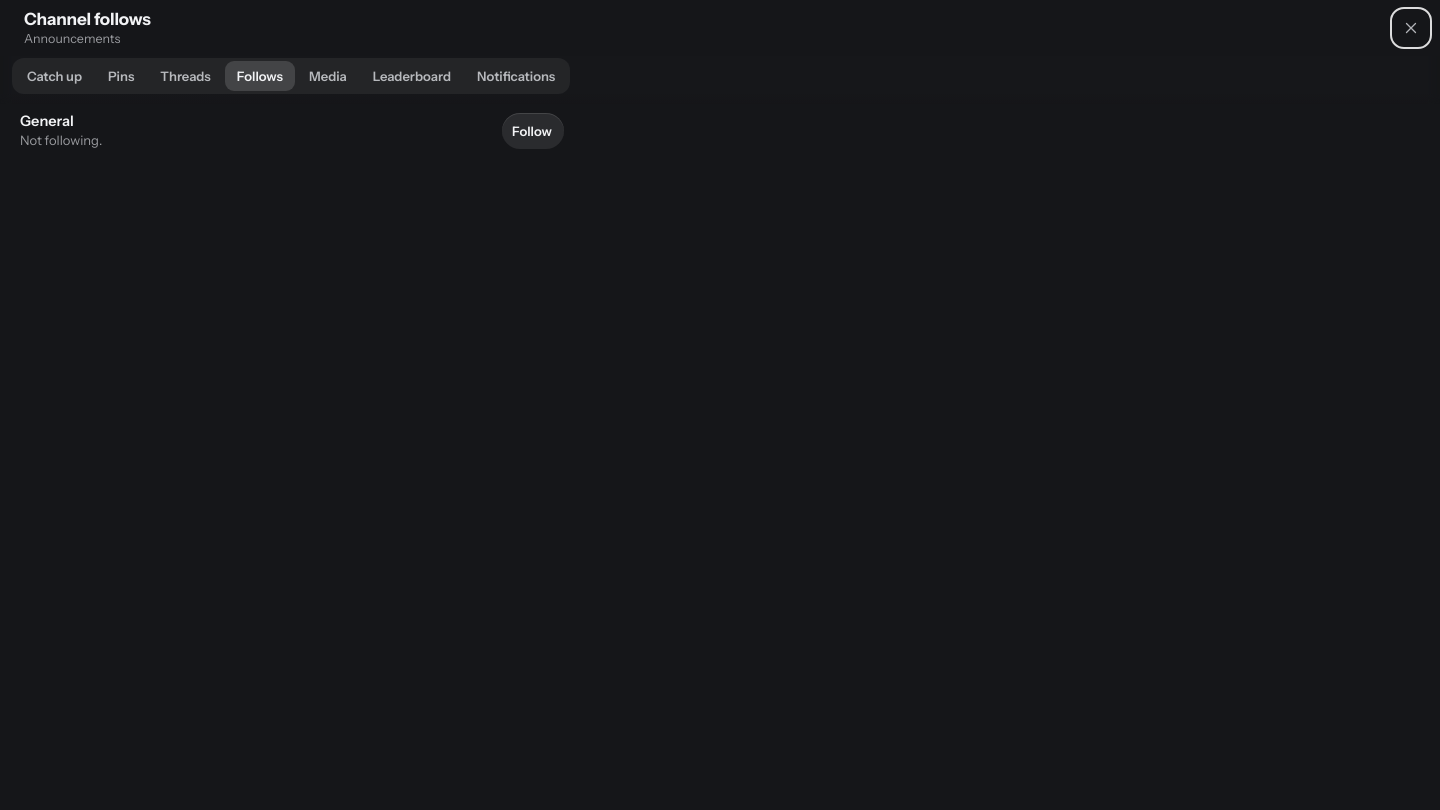
Test: channel follows › says why following failed, with the reason the server gave
Click the button "Follow" at x=533, y=131, box [502,113,564,149]
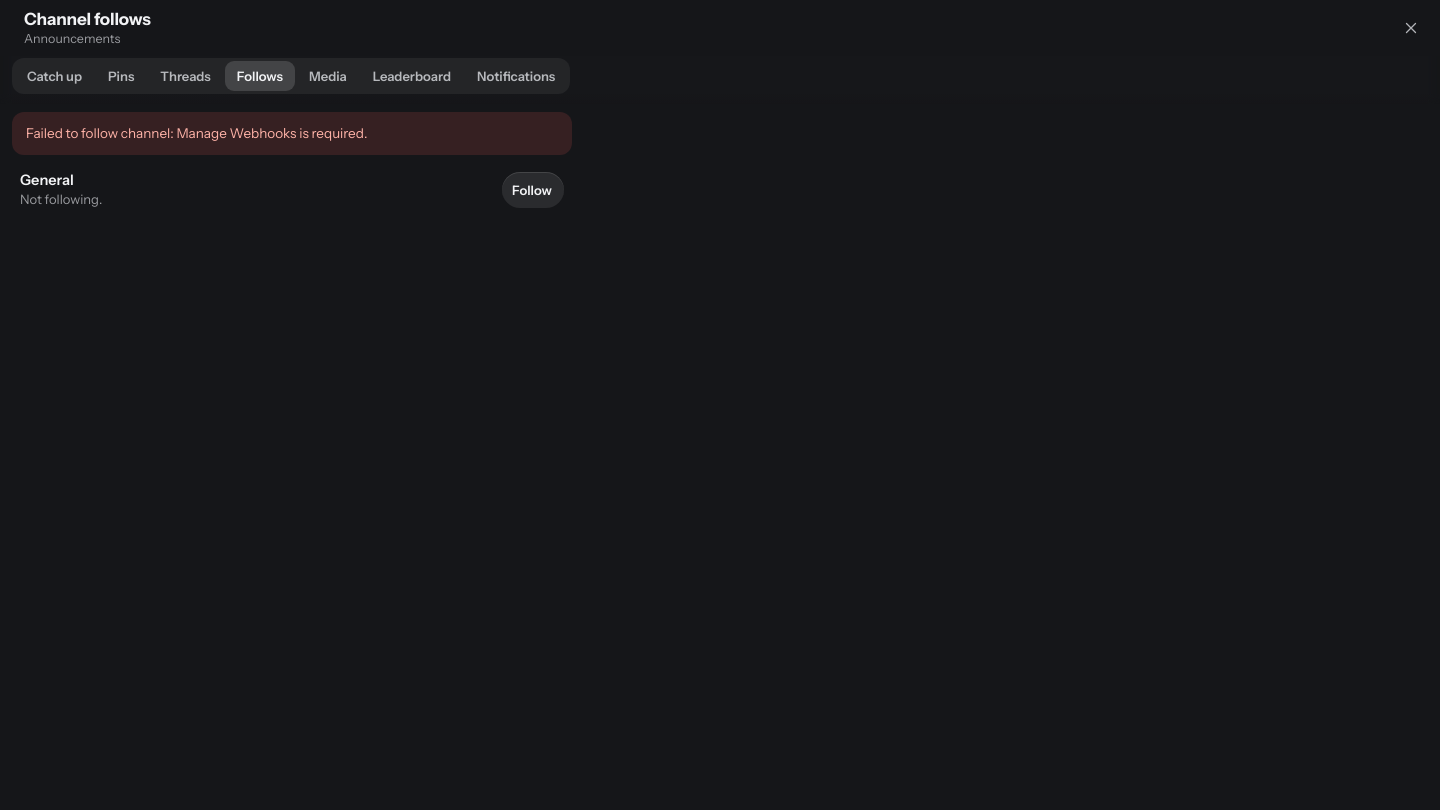
expect the message reads "Failed to follow channel: Manage Webhooks is required.": met, box [26,125,367,141]
